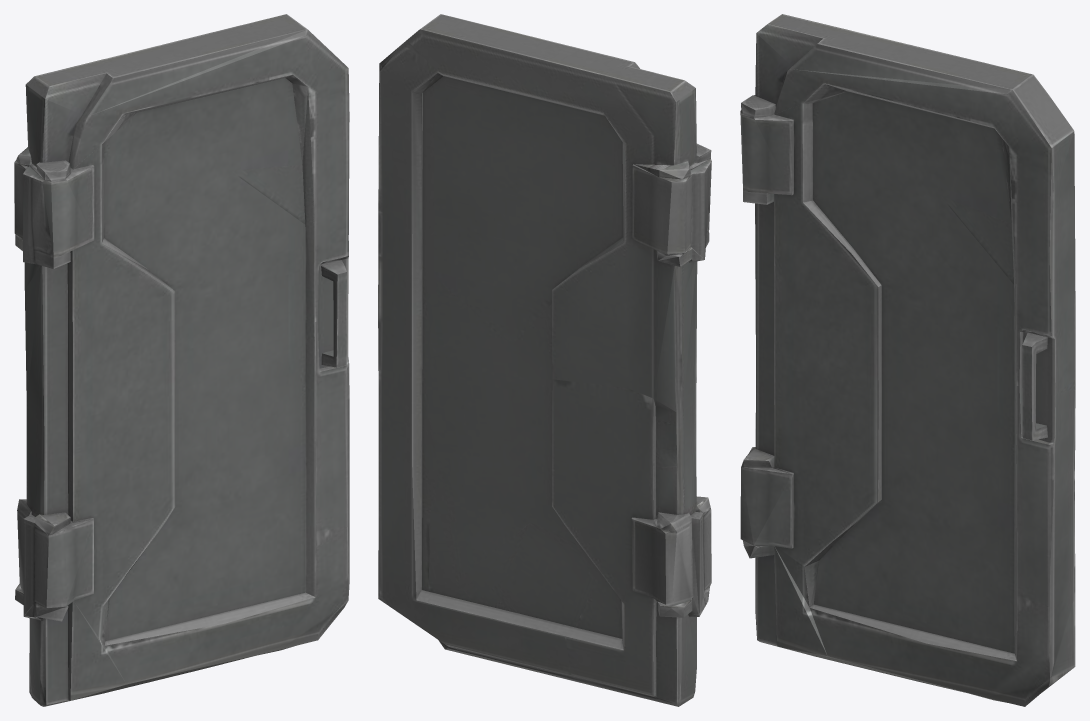
Rendered from imperial_armoured_bunker__entrance_door_leaf_lod1.glb.
3 views of the same model, side by side, from view 1: azimuth 30°, elevation 25°; view 2: azimuth 150°, elevation 25°; view 3: azimuth 330°, elevation 25° (orthographic).
Parts seen in each view (by area): view 1: mesh_node; view 2: mesh_node; view 3: mesh_node.
Part boxes in pixels (x1,y1,x2,y2): mesh_node: [14, 14, 349, 706]; mesh_node: [378, 14, 711, 706]; mesh_node: [740, 14, 1075, 706].
Size of the model in its own units: 1.32 by 2.47 by 0.2873.
1 material, 1 textured.
